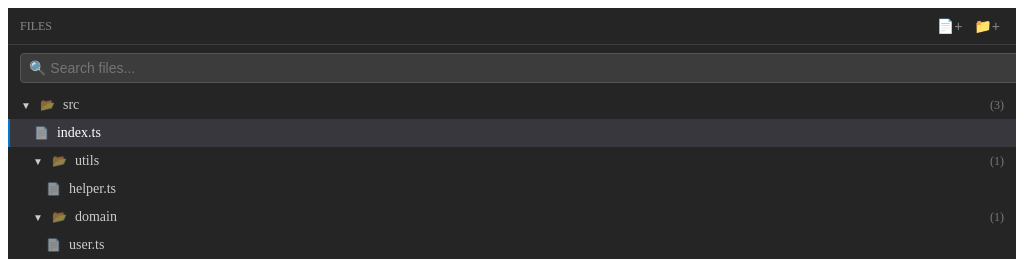
Test: EditableFileTree › context menu › should close context menu on outside click
The width and height of the screenshot is (1036, 276).
Right-click the text "index.ts" at (512, 133), box [8,119,1016,147]
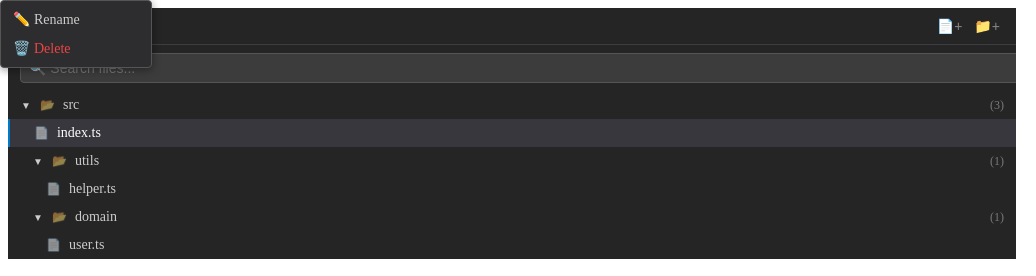
Expected: the text "✏️ Rename" is shown, [13,12,80,27]
Note: Click outside (on the document)
Click the element that starts with "Files" at (512, 134), box [8,8,1016,259]
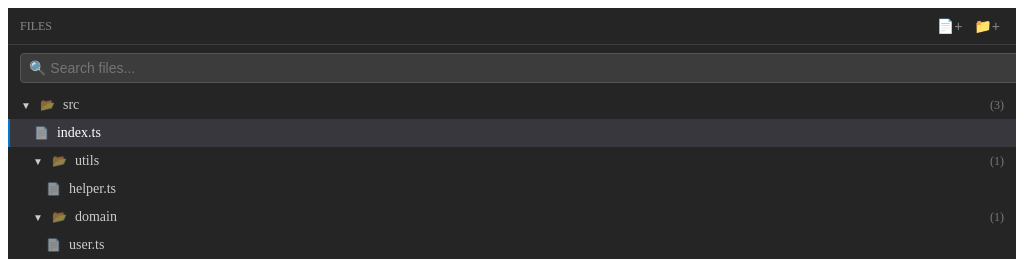
Expected: the text "✏️ Rename" is gone
